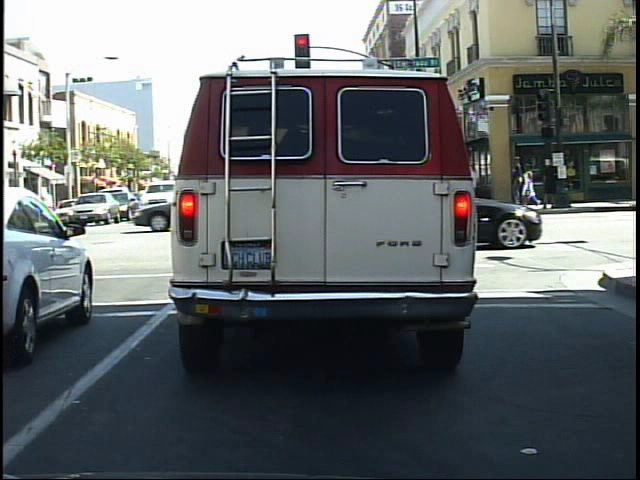person: (536, 154, 563, 215), (516, 157, 541, 214), (509, 152, 529, 208), (521, 160, 541, 213)
